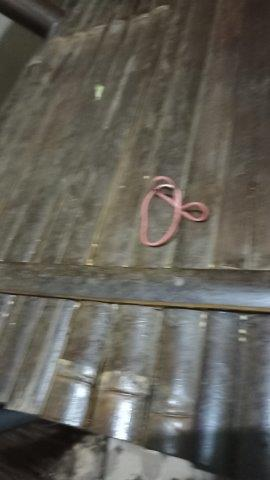karet: (141, 176, 208, 246)
